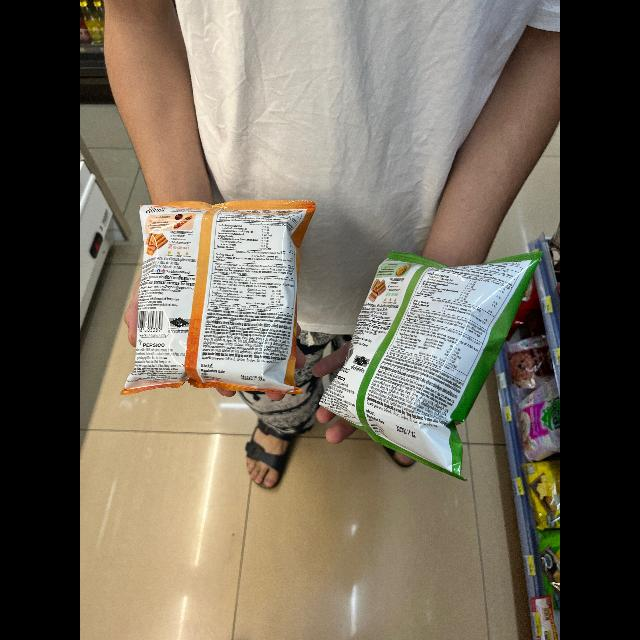snack_bag: (317, 240, 545, 490), (130, 189, 310, 403)
